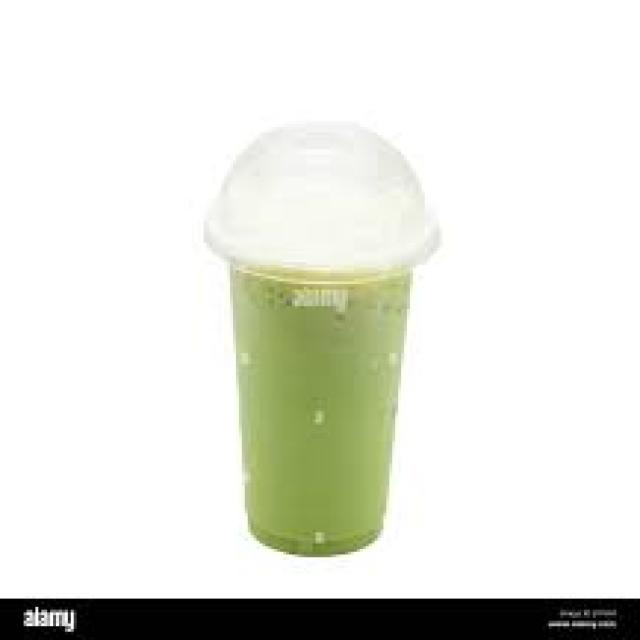bottle: (233, 265, 412, 554)
